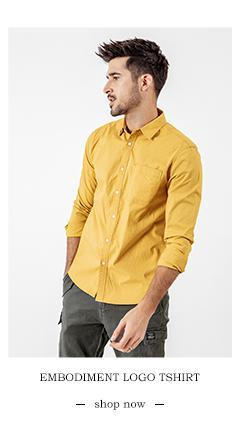pants: (60, 277, 171, 357)
